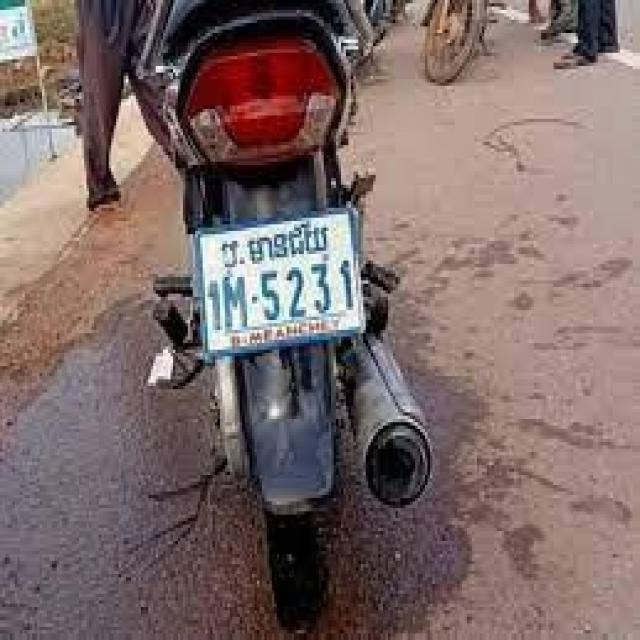Banteay_Meanchey: (217, 218, 330, 272)
